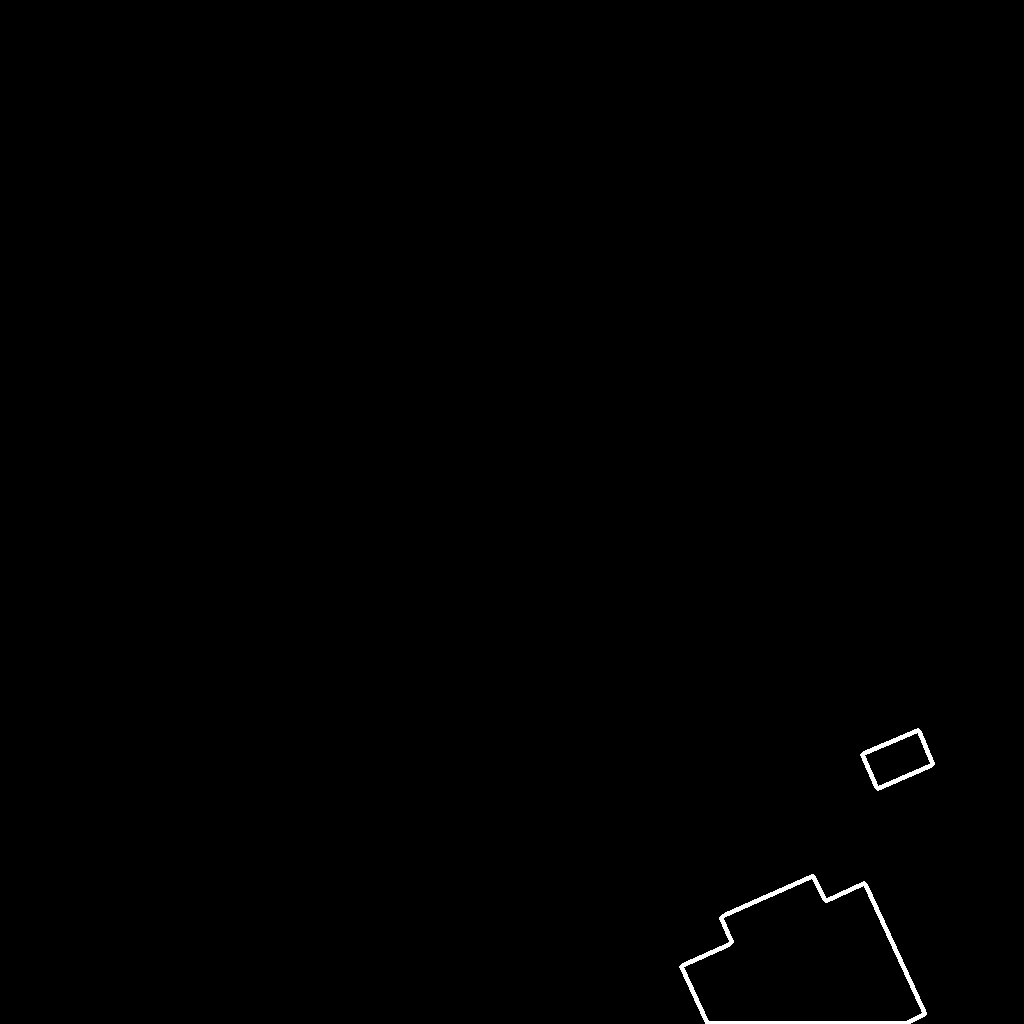building: (681, 876, 926, 1024), (862, 730, 934, 790)
